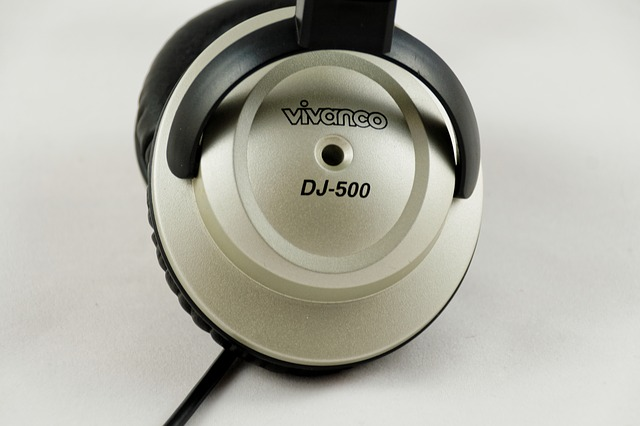headphones: (134, 1, 482, 381)
